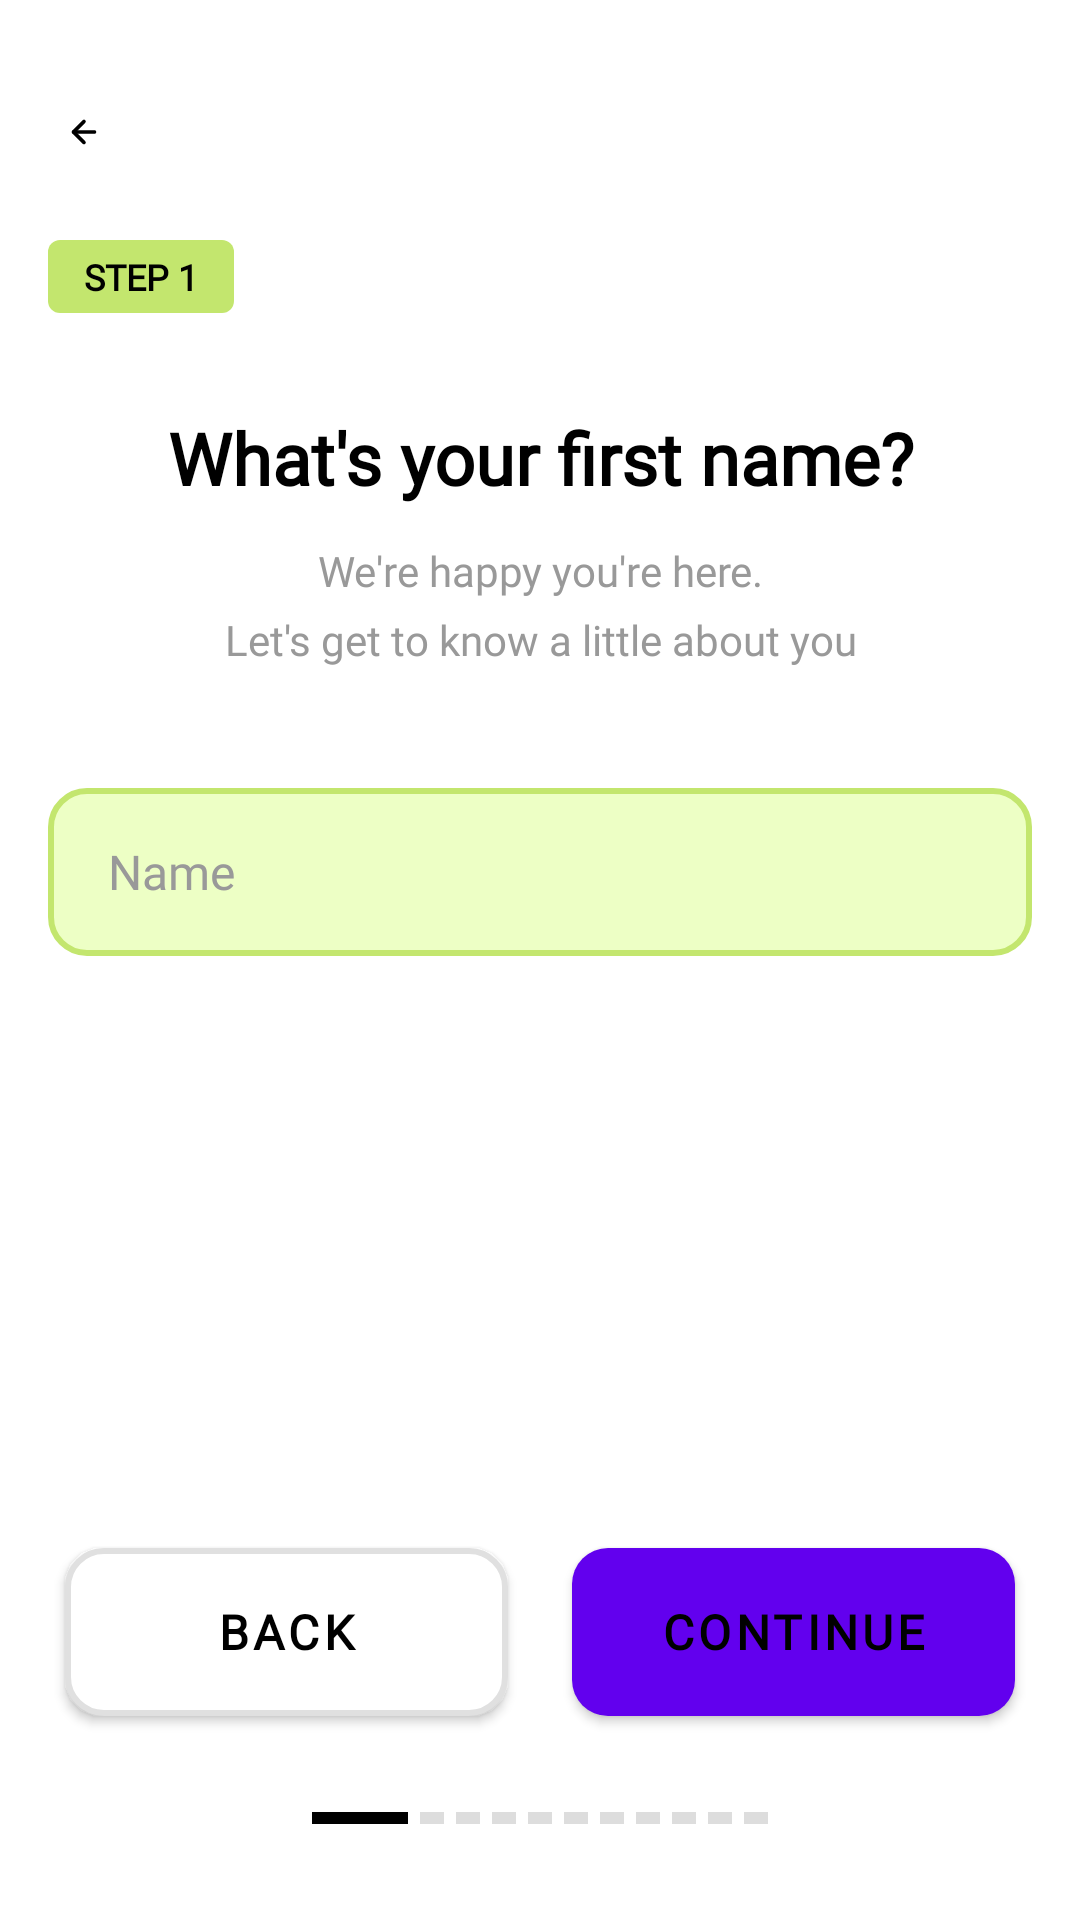

Icons on this 1080w x 1920h Android screen, each with its box as box=[x1, y1, x2, y2]:
Back: box=[71, 119, 97, 145]
